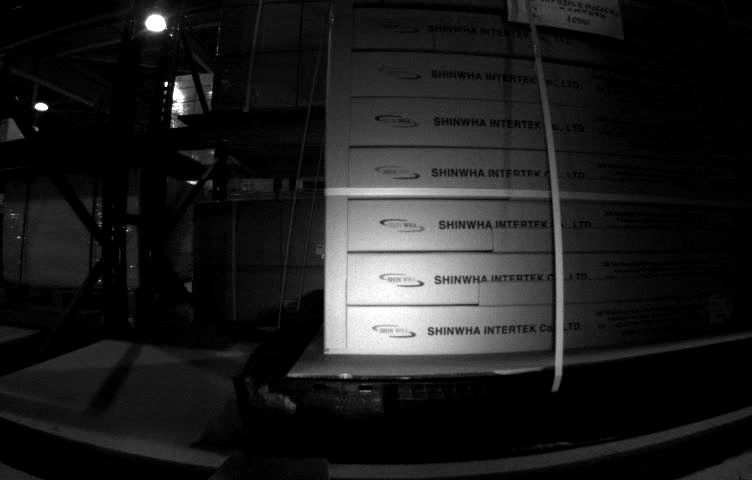True Barcode: (711, 294, 731, 324)
